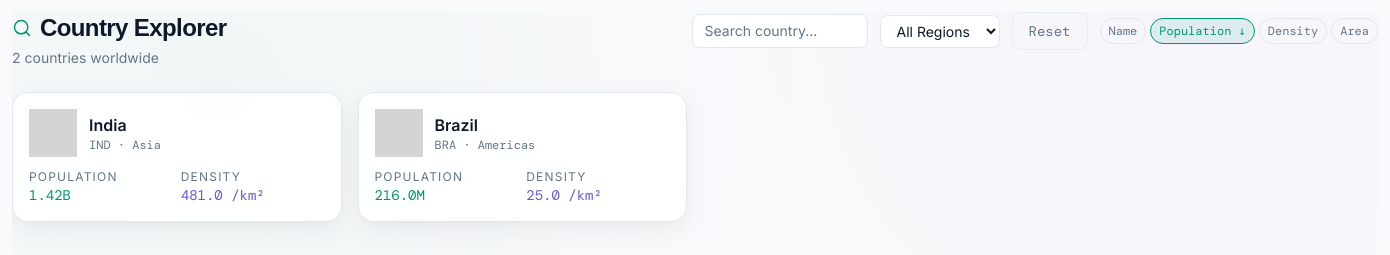
Test: <Explorer /> › filters by region when a region is selected
Select "Asia" in the dropdown at point(940, 31), box [880,14,1000,48]
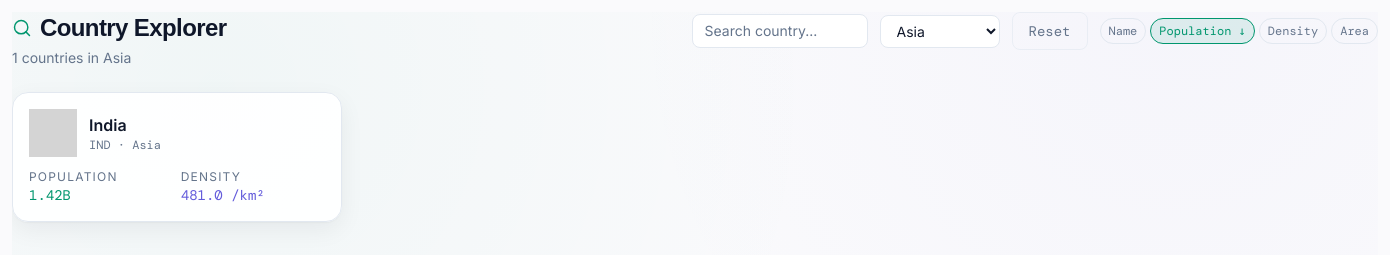
Expected: the number of "CountryCard" components is 1, [12,92,342,222]
Now the text "1 countries in Asia" is shown, box [12,49,131,66]
